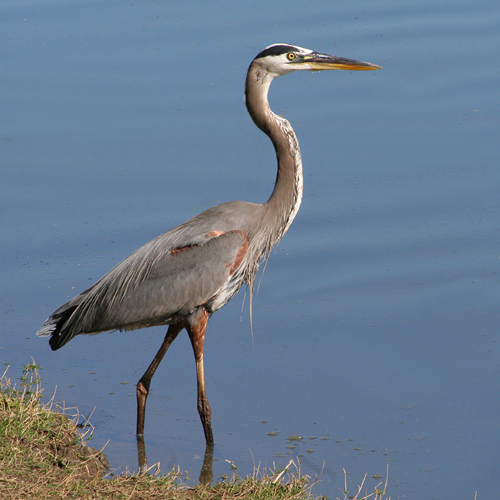heron: (38, 38, 387, 482)
